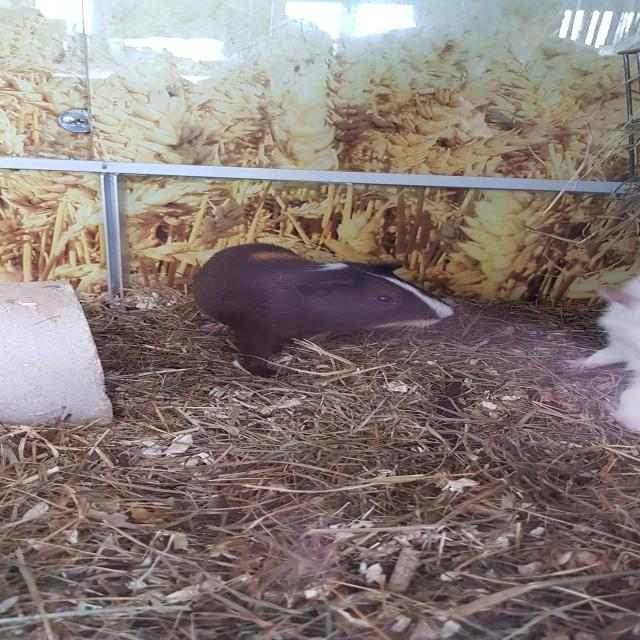guinea pig: (189, 240, 458, 380)
